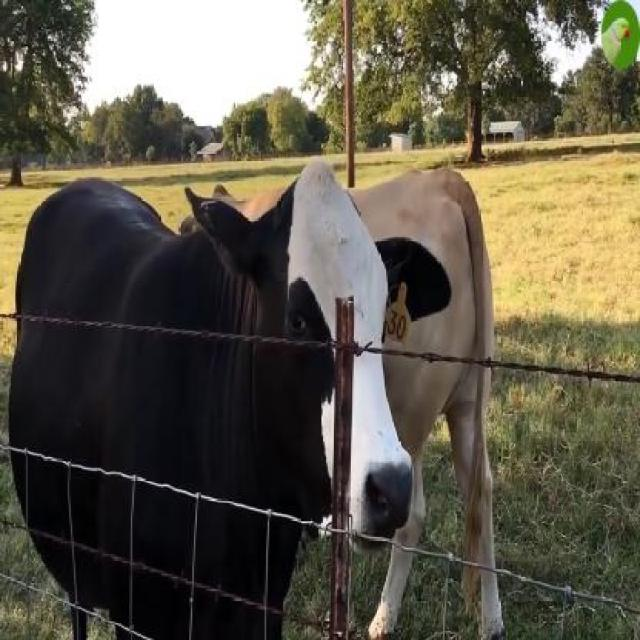Cow: (9, 164, 451, 638)
